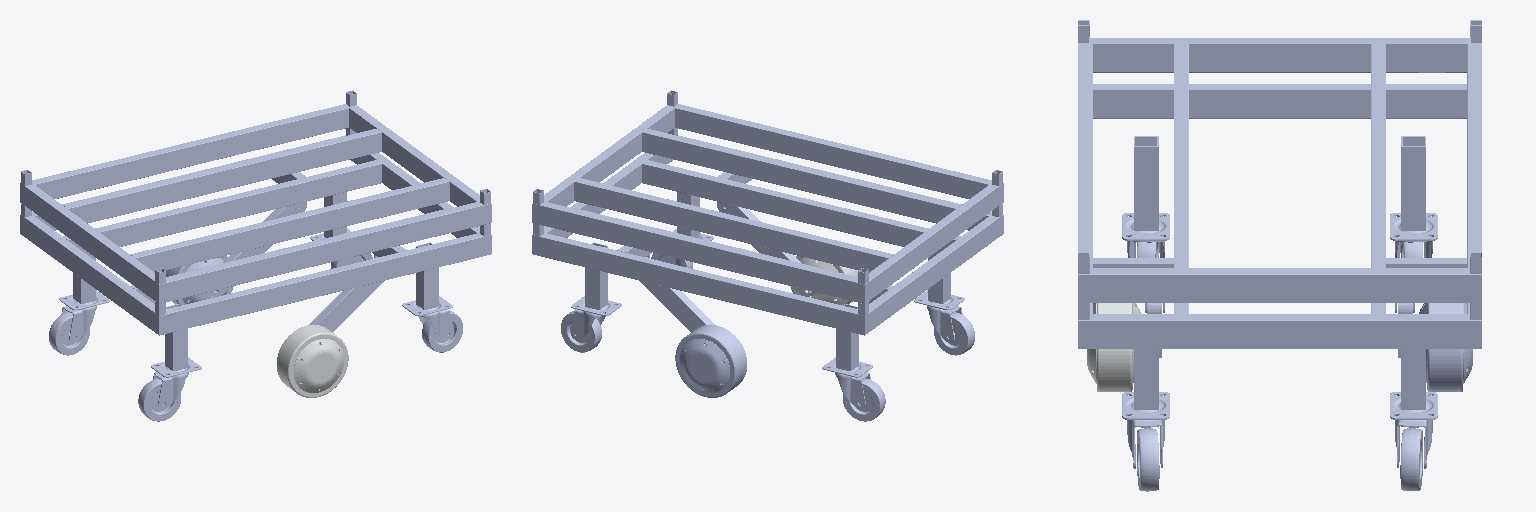
URDF robot description (toboid_amr):
<?xml version="1.0" encoding="utf-8"?>
<!-- This URDF was automatically created by SolidWorks to URDF Exporter! Originally created by [author] ([email redacted]) 
     Commit Version: 1.6.0-1-g15f4949  Build Version: 1.6.7594.29634
     For more information, please see http://wiki.ros.org/sw_urdf_exporter -->
<robot
  name="toboid_amr">
  <link
    name="base_link">
    <inertial>
      <origin
        xyz="0.0626966686919955 0.324999999999997 0.191467146640633"
        rpy="0 0 0" />
      <mass
        value="0.462213571724635" />
      <inertia
        ixx="0.00091600053755879"
        ixy="2.62311817703793E-18"
        ixz="-0.000462675742572659"
        iyy="0.0015331732209853"
        iyz="3.59591556862736E-18"
        izz="0.00096689590482164" />
    </inertial>
    <visual>
      <origin
        xyz="0 0 0"
        rpy="0 0 0" />
      <geometry>
        <mesh
          filename="package://toboid_amr/meshes/base_link.STL" />
      </geometry>
      <material
        name="">
        <color
          rgba="0.792156862745098 0.819607843137255 0.933333333333333 1" />
      </material>
    </visual>
    <collision>
      <origin
        xyz="0 0 0"
        rpy="0 0 0" />
      <geometry>
        <mesh
          filename="package://toboid_amr/meshes/base_link.STL" />
      </geometry>
    </collision>
  </link>
  <link
    name="front_left">
    <inertial>
      <origin
        xyz="0.0185262909295125 -0.00152611528993085 0.0577124098081633"
        rpy="0 0 0" />
      <mass
        value="0.0319810746267886" />
      <inertia
        ixx="3.27140194103872E-05"
        ixy="-1.86432980903298E-08"
        ixz="8.74287360414389E-06"
        iyy="3.2468363190406E-05"
        iyz="-6.46808751767549E-07"
        izz="2.79064332908438E-05" />
    </inertial>
    <visual>
      <origin
        xyz="0 0 0"
        rpy="0 0 0" />
      <geometry>
        <mesh
          filename="package://toboid_amr/meshes/front_left.STL" />
      </geometry>
      <material
        name="">
        <color
          rgba="0.792156862745098 0.819607843137255 0.933333333333333 1" />
      </material>
    </visual>
    <collision>
      <origin
        xyz="0 0 0"
        rpy="0 0 0" />
      <geometry>
        <mesh
          filename="package://toboid_amr/meshes/front_left.STL" />
      </geometry>
    </collision>
  </link>
  <joint
    name="f_left"
    type="continuous">
    <origin
      xyz="0.33999999999999 0.540000000000002 0.0363469274402164"
      rpy="0 0 0" />
    <parent
      link="base_link" />
    <child
      link="front_left" />
    <axis
      xyz="0 0 -1" />
  </joint>
  <link
    name="caster1">
    <inertial>
      <origin
        xyz="-8.19257828910125E-07 5.20148563443179E-07 2.15860652436062E-07"
        rpy="0 0 0" />
      <mass
        value="0.17935695266917" />
      <inertia
        ixx="0.000148644295958208"
        ixy="9.24700800067117E-06"
        ixz="3.07443995363081E-09"
        iyy="0.00027289314210383"
        iyz="-3.14954956393747E-10"
        izz="0.000147973018296655" />
    </inertial>
    <visual>
      <origin
        xyz="0 0 0"
        rpy="0 0 0" />
      <geometry>
        <mesh
          filename="package://toboid_amr/meshes/caster1.STL" />
      </geometry>
      <material
        name="">
        <color
          rgba="0.792156862745098 0.819607843137255 0.933333333333333 1" />
      </material>
    </visual>
    <collision>
      <origin
        xyz="0 0 0"
        rpy="0 0 0" />
      <geometry>
        <mesh
          filename="package://toboid_amr/meshes/caster1.STL" />
      </geometry>
    </collision>
  </link>
  <joint
    name="cast1"
    type="continuous">
    <origin
      xyz="0.0428826975063044 -0.00317399662614659 0.014"
      rpy="0 0 0" />
    <parent
      link="front_left" />
    <child
      link="caster1" />
    <axis
      xyz="0.0738138750266638 0.997272035030336 0" />
  </joint>
  <link
    name="front_right">
    <inertial>
      <origin
        xyz="0.0185378695353156 0.00137144502812035 0.0577123824416376"
        rpy="0 0 0" />
      <mass
        value="0.0319810407588376" />
      <inertia
        ixx="3.27141879152011E-05"
        ixy="1.79756746090617E-08"
        ixz="8.74282808150112E-06"
        iyy="3.24682820609342E-05"
        iyz="6.474295976353E-07"
        izz="2.79064187001974E-05" />
    </inertial>
    <visual>
      <origin
        xyz="0 0 0"
        rpy="0 0 0" />
      <geometry>
        <mesh
          filename="package://toboid_amr/meshes/front_right.STL" />
      </geometry>
      <material
        name="">
        <color
          rgba="0.792156862745098 0.819607843137255 0.933333333333333 1" />
      </material>
    </visual>
    <collision>
      <origin
        xyz="0 0 0"
        rpy="0 0 0" />
      <geometry>
        <mesh
          filename="package://toboid_amr/meshes/front_right.STL" />
      </geometry>
    </collision>
  </link>
  <joint
    name="f_right"
    type="continuous">
    <origin
      xyz="0.33999999999999 0.109999999999996 0.0363469274402135"
      rpy="0 0 0" />
    <parent
      link="base_link" />
    <child
      link="front_right" />
    <axis
      xyz="0 0 -1" />
  </joint>
  <link
    name="caster2">
    <inertial>
      <origin
        xyz="-8.83091387571255E-07 3.91255288403891E-07 2.14103426959822E-07"
        rpy="0 0 0" />
      <mass
        value="0.179356998655612" />
      <inertia
        ixx="0.000148644302614055"
        ixy="-9.24706119673542E-06"
        ixz="3.073495176887E-09"
        iyy="0.00027289315884874"
        iyz="1.30060970394995E-10"
        izz="0.000147973048472694" />
    </inertial>
    <visual>
      <origin
        xyz="0 0 0"
        rpy="0 0 0" />
      <geometry>
        <mesh
          filename="package://toboid_amr/meshes/caster2.STL" />
      </geometry>
      <material
        name="">
        <color
          rgba="0.792156862745098 0.819607843137255 0.933333333333333 1" />
      </material>
    </visual>
    <collision>
      <origin
        xyz="0 0 0"
        rpy="0 0 0" />
      <geometry>
        <mesh
          filename="package://toboid_amr/meshes/caster2.STL" />
      </geometry>
    </collision>
  </link>
  <joint
    name="cast2"
    type="continuous">
    <origin
      xyz="0.0428826975063046 0.00317399662614661 0.014"
      rpy="0 0 0" />
    <parent
      link="front_right" />
    <child
      link="caster2" />
    <axis
      xyz="-0.0738138750266658 0.997272035030336 0" />
  </joint>
  <link
    name="back_left">
    <inertial>
      <origin
        xyz="-0.0185378695353174 -0.00137144502811548 0.0577123824416379"
        rpy="0 0 0" />
      <mass
        value="0.0319810407588365" />
      <inertia
        ixx="3.27141879152005E-05"
        ixy="1.79756746088696E-08"
        ixz="-8.74282808150105E-06"
        iyy="3.24682820609334E-05"
        iyz="-6.47429597635351E-07"
        izz="2.79064187001966E-05" />
    </inertial>
    <visual>
      <origin
        xyz="0 0 0"
        rpy="0 0 0" />
      <geometry>
        <mesh
          filename="package://toboid_amr/meshes/back_left.STL" />
      </geometry>
      <material
        name="">
        <color
          rgba="0.792156862745098 0.819607843137255 0.933333333333333 1" />
      </material>
    </visual>
    <collision>
      <origin
        xyz="0 0 0"
        rpy="0 0 0" />
      <geometry>
        <mesh
          filename="package://toboid_amr/meshes/back_left.STL" />
      </geometry>
    </collision>
  </link>
  <joint
    name="b_left"
    type="continuous">
    <origin
      xyz="-0.340000000000016 0.539999999999999 0.0363469274402164"
      rpy="0 0 0" />
    <parent
      link="base_link" />
    <child
      link="back_left" />
    <axis
      xyz="0 0 -1" />
  </joint>
  <link
    name="caster3">
    <inertial>
      <origin
        xyz="8.77069177007694E-07 -3.95111844908591E-07 2.13495059214752E-07"
        rpy="0 0 0" />
      <mass
        value="0.179356944610088" />
      <inertia
        ixx="0.000148644281314953"
        ixy="-9.24704224232705E-06"
        ixz="-3.0688625291833E-09"
        iyy="0.000272893112201367"
        iyz="-1.33503825734714E-10"
        izz="0.000147973008770686" />
    </inertial>
    <visual>
      <origin
        xyz="0 0 0"
        rpy="0 0 0" />
      <geometry>
        <mesh
          filename="package://toboid_amr/meshes/caster3.STL" />
      </geometry>
      <material
        name="">
        <color
          rgba="0.792156862745098 0.819607843137255 0.933333333333333 1" />
      </material>
    </visual>
    <collision>
      <origin
        xyz="0 0 0"
        rpy="0 0 0" />
      <geometry>
        <mesh
          filename="package://toboid_amr/meshes/caster3.STL" />
      </geometry>
    </collision>
  </link>
  <joint
    name="cast3"
    type="continuous">
    <origin
      xyz="-0.0428826975063045 -0.00317399662614692 0.014"
      rpy="0 0 0" />
    <parent
      link="back_left" />
    <child
      link="caster3" />
    <axis
      xyz="0.0738138750266714 -0.997272035030336 0" />
  </joint>
  <link
    name="back_right">
    <inertial>
      <origin
        xyz="-0.0185262909295106 0.00152611528992695 0.0577124098081647"
        rpy="0 0 0" />
      <mass
        value="0.0319810746267859" />
      <inertia
        ixx="3.27140194103846E-05"
        ixy="-1.86432980908805E-08"
        ixz="-8.74287360414429E-06"
        iyy="3.24683631904028E-05"
        iyz="6.46808751767542E-07"
        izz="2.79064332908408E-05" />
    </inertial>
    <visual>
      <origin
        xyz="0 0 0"
        rpy="0 0 0" />
      <geometry>
        <mesh
          filename="package://toboid_amr/meshes/back_right.STL" />
      </geometry>
      <material
        name="">
        <color
          rgba="0.792156862745098 0.819607843137255 0.933333333333333 1" />
      </material>
    </visual>
    <collision>
      <origin
        xyz="0 0 0"
        rpy="0 0 0" />
      <geometry>
        <mesh
          filename="package://toboid_amr/meshes/back_right.STL" />
      </geometry>
    </collision>
  </link>
  <joint
    name="b_right"
    type="continuous">
    <origin
      xyz="-0.340000000000016 0.109999999999998 0.0363469274402134"
      rpy="0 0 0" />
    <parent
      link="base_link" />
    <child
      link="back_right" />
    <axis
      xyz="0 0 -1" />
  </joint>
  <link
    name="caster4">
    <inertial>
      <origin
        xyz="8.13088708750964E-07 -5.18231095397725E-07 2.14169417700472E-07"
        rpy="0 0 0" />
      <mass
        value="0.17935697572413" />
      <inertia
        ixx="0.000148644302691065"
        ixy="9.24701839280875E-06"
        ixz="-3.06292784190372E-09"
        iyy="0.000272893171326259"
        iyz="3.19724294582864E-10"
        izz="0.000147973049299385" />
    </inertial>
    <visual>
      <origin
        xyz="0 0 0"
        rpy="0 0 0" />
      <geometry>
        <mesh
          filename="package://toboid_amr/meshes/caster4.STL" />
      </geometry>
      <material
        name="">
        <color
          rgba="0.792156862745098 0.819607843137255 0.933333333333333 1" />
      </material>
    </visual>
    <collision>
      <origin
        xyz="0 0 0"
        rpy="0 0 0" />
      <geometry>
        <mesh
          filename="package://toboid_amr/meshes/caster4.STL" />
      </geometry>
    </collision>
  </link>
  <joint
    name="cast4"
    type="continuous">
    <origin
      xyz="-0.0428826975063045 0.00317399662614687 0.014"
      rpy="0 0 0" />
    <parent
      link="back_right" />
    <child
      link="caster4" />
    <axis
      xyz="-0.0738138750266786 -0.997272035030335 0" />
  </joint>
  <link
    name="left_motor">
    <inertial>
      <origin
        xyz="0.0031139929171683 -0.180999999910147 0.0579226188979096"
        rpy="0 0 0" />
      <mass
        value="9.30766721308785" />
      <inertia
        ixx="0.717841231608288"
        ixy="2.64005105195476E-06"
        ixz="-0.00311967685772089"
        iyy="0.479711667748635"
        iyz="-5.60470653563331E-07"
        izz="0.952921028333559" />
    </inertial>
    <visual>
      <origin
        xyz="0 0 0"
        rpy="0 0 0" />
      <geometry>
        <mesh
          filename="package://toboid_amr/meshes/left_motor.STL" />
      </geometry>
      <material
        name="">
        <color
          rgba="0.792156862745098 0.819607843137255 0.933333333333333 1" />
      </material>
    </visual>
    <collision>
      <origin
        xyz="0 0 0"
        rpy="0 0 0" />
      <geometry>
        <mesh
          filename="package://toboid_amr/meshes/left_motor.STL" />
      </geometry>
    </collision>
  </link>
  <joint
    name="l_motor"
    type="continuous">
    <origin
      xyz="0 0.506000000000002 0.0825000000000038"
      rpy="0 0 0" />
    <parent
      link="base_link" />
    <child
      link="left_motor" />
    <axis
      xyz="0 -1 0" />
  </joint>
  <link
    name="right_motor">
    <inertial>
      <origin
        xyz="7.81690934203993E-10 0.044214104202476 -1.7463386607075E-06"
        rpy="0 0 0" />
      <mass
        value="3.02180869519929" />
      <inertia
        ixx="0.00524190202781709"
        ixy="-1.86236221767162E-09"
        ixz="2.7225914696441E-10"
        iyy="0.0070963500748403"
        iyz="4.14994315184624E-07"
        izz="0.00524183790269708" />
    </inertial>
    <visual>
      <origin
        xyz="0 0 0"
        rpy="0 0 0" />
      <geometry>
        <mesh
          filename="package://toboid_amr/meshes/right_motor.STL" />
      </geometry>
      <material
        name="">
        <color
          rgba="0.898039215686275 0.917647058823529 0.929411764705882 1" />
      </material>
    </visual>
    <collision>
      <origin
        xyz="0 0 0"
        rpy="0 0 0" />
      <geometry>
        <mesh
          filename="package://toboid_amr/meshes/right_motor.STL" />
      </geometry>
    </collision>
  </link>
  <joint
    name="r_motor"
    type="continuous">
    <origin
      xyz="0 0.0155000000000009 0.0825000000000006"
      rpy="0 0 0" />
    <parent
      link="base_link" />
    <child
      link="right_motor" />
    <axis
      xyz="0 1 0" />
  </joint>
  
  
  <gazebo>
    <plugin filename="libgazebo_ros_diff_drive.so" name="gazebo_base_controller">
      <!-- <ros>
        <namespace>/hcr</namespace>
      </ros> -->
      <odometry_frame>odom</odometry_frame>
      <!--commandTopic>cmd_vel</commandTopic-->
      <publish_odom>true</publish_odom>
      <publish_odom_tf>true</publish_odom_tf>
      <publish_wheel_tf>true</publish_wheel_tf>
      <update_rate>10.0</update_rate>
      <left_joint>leftjoint</left_joint>
      <right_joint>rightjoint</right_joint>
      <wheel_separation>0.26</wheel_separation>
      <wheel_diameter>0.078</wheel_diameter>
      <max_wheel_acceleration>0.7</max_wheel_acceleration>
      <max_wheel_torque>8</max_wheel_torque>
      <robotBaseFrame>base_link</robotBaseFrame>

    </plugin>
  </gazebo>

<gazebo reference="base_link">
  <material>Gazebo/White</material>
</gazebo>

<gazebo reference="front_left">
  <material>Gazebo/Black</material>
</gazebo>

<gazebo reference="front_right">
  <material>Gazebo/Black</material>
</gazebo>

<gazebo reference="back_left">
  <material>Gazebo/Black</material>
</gazebo>

<gazebo reference="back_right">
  <material>Gazebo/Black</material>
</gazebo>

<gazebo reference="caster1">
  <material>Gazebo/Blue</material>
</gazebo>

<gazebo reference="caster2">
  <material>Gazebo/Blue</material>
</gazebo>

<gazebo reference="caster3">
  <material>Gazebo/Blue</material>
</gazebo>

<gazebo reference="caster4">
  <material>Gazebo/Blue</material>
</gazebo>

<gazebo reference="left_motor">
  <material>Gazebo/Green</material>
</gazebo>

<gazebo reference="right_motor">
  <material>Gazebo/Green</material>
</gazebo>

  
</robot>

--- What the picture shows (computed from the rendered views, not written in the file) ---
Views: 3 orthographic renders of the robot side by side, from view 1: azimuth 30°, elevation 25°; view 2: azimuth 150°, elevation 25°; view 3: azimuth 270°, elevation 25°.
Robot: toboid_amr — 11 links, 10 joints (10 continuous); root link base_link; default pose: every joint at zero.
Links seen in each view (by area): view 1: base_link, right_motor, caster4, caster3, caster2, left_motor, back_right, back_left, front_right; view 2: base_link, left_motor, caster3, caster4, caster1, right_motor, back_left, back_right, front_left; view 3: base_link, left_motor, right_motor, caster2, caster1, front_left, front_right.
Boxes of the visible links, x1,y1,x2,y2 form: base_link: [20, 90, 491, 377]; right_motor: [277, 325, 348, 397]; caster4: [138, 378, 180, 421]; caster3: [49, 312, 89, 355]; caster2: [422, 310, 462, 352]; left_motor: [166, 256, 233, 304]; back_right: [153, 372, 188, 408]; back_left: [61, 306, 96, 342]; front_right: [418, 309, 452, 339]; base_link: [532, 90, 1003, 377]; left_motor: [675, 325, 746, 397]; caster3: [843, 378, 885, 421]; caster4: [934, 312, 974, 355]; caster1: [561, 310, 601, 352]; right_motor: [790, 256, 857, 304]; back_left: [835, 372, 870, 408]; back_right: [927, 306, 962, 342]; front_left: [571, 309, 605, 339]; base_link: [1078, 20, 1481, 419]; left_motor: [1419, 303, 1472, 391]; right_motor: [1087, 303, 1140, 391]; caster2: [1137, 428, 1159, 491]; caster1: [1400, 428, 1422, 490]; front_left: [1395, 415, 1432, 468]; front_right: [1127, 415, 1164, 468].
Bounding box of the posed robot: 0.9 × 0.65 × 0.4407 m (x, y, z).
Meshes: 11 distinct files referenced, 11 mesh visuals loaded (11 binary STL).
